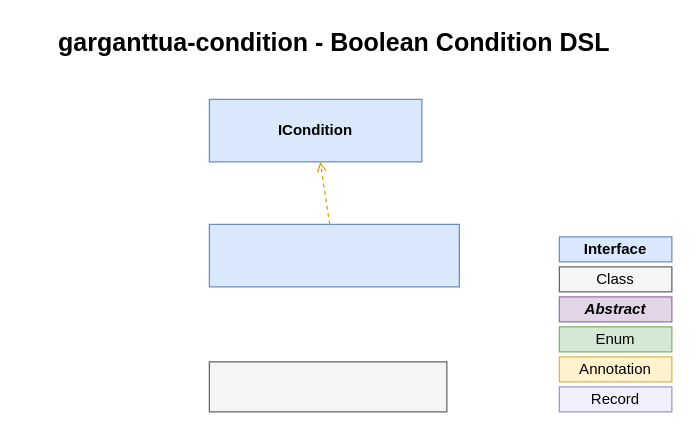
Image size: 694x434. Some labels were removed from this diagram. The shapes that lost their labels are listed below. From the top down, each one's centre as x and y in pixels, then its label:
At pixel 333 255: "IConditionBuilder".
At pixel 327 386: "ConditionException".
